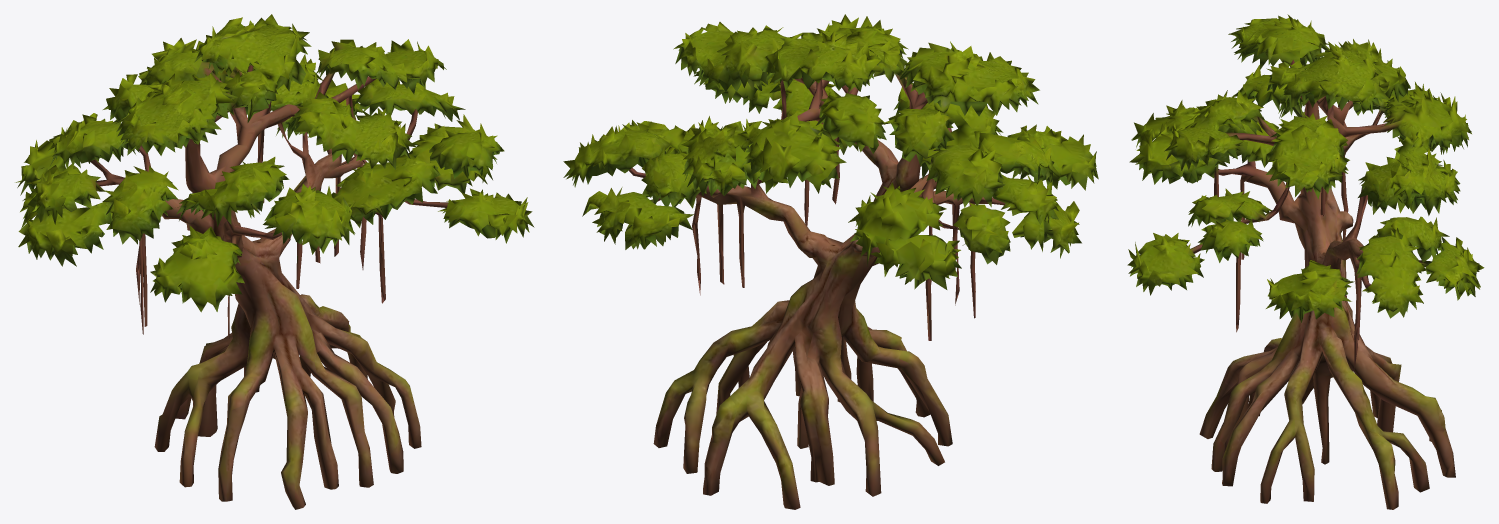
File: env-mangrove2.glb
3 views of the same model, side by side, from view 1: azimuth 30°, elevation 25°; view 2: azimuth 150°, elevation 25°; view 3: azimuth 270°, elevation 25° (orthographic). The views are drawn at different scales.
Parts seen in each view (by area): view 1: tripo_node_d3cf4d22-aa86-4627-8c0b-84c3be6f51be; view 2: tripo_node_d3cf4d22-aa86-4627-8c0b-84c3be6f51be; view 3: tripo_node_d3cf4d22-aa86-4627-8c0b-84c3be6f51be.
Part boxes in pixels (x1,y1,x2,y2): tripo_node_d3cf4d22-aa86-4627-8c0b-84c3be6f51be: (15, 14, 534, 509); tripo_node_d3cf4d22-aa86-4627-8c0b-84c3be6f51be: (563, 14, 1098, 509); tripo_node_d3cf4d22-aa86-4627-8c0b-84c3be6f51be: (1127, 14, 1484, 509).
Bounding box in the file's own units: 1 × 0.8766 × 0.7126.
Materials: 1 (1 with a texture image).
